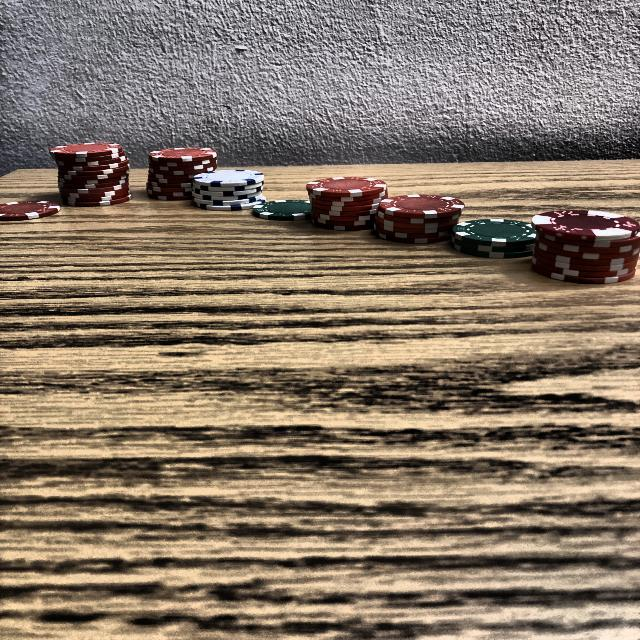Chip: (531, 198, 640, 290), (370, 180, 462, 252), (302, 164, 386, 238), (59, 132, 135, 210), (138, 138, 222, 208), (447, 208, 544, 263), (182, 162, 267, 220), (244, 194, 316, 229), (0, 194, 66, 224)
